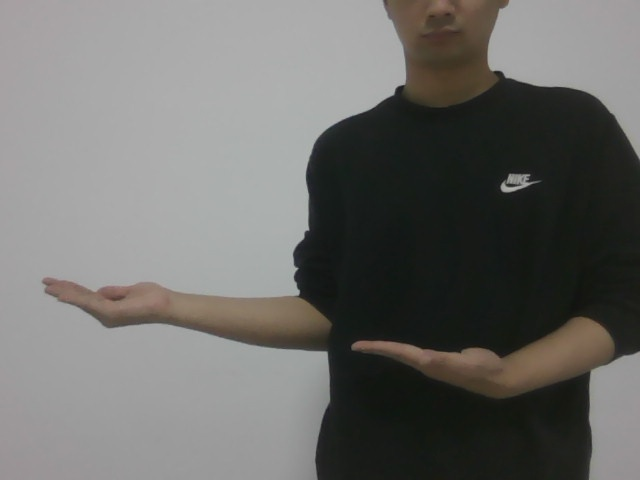please: (23, 260, 517, 408)
